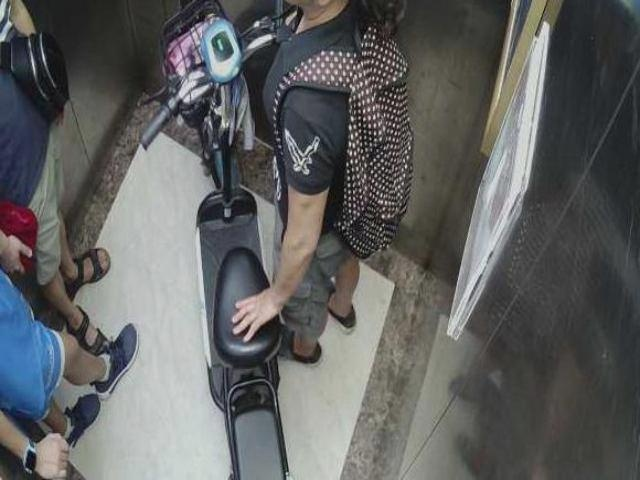bag: (338, 22, 417, 259)
electromobile: (144, 3, 294, 479)
